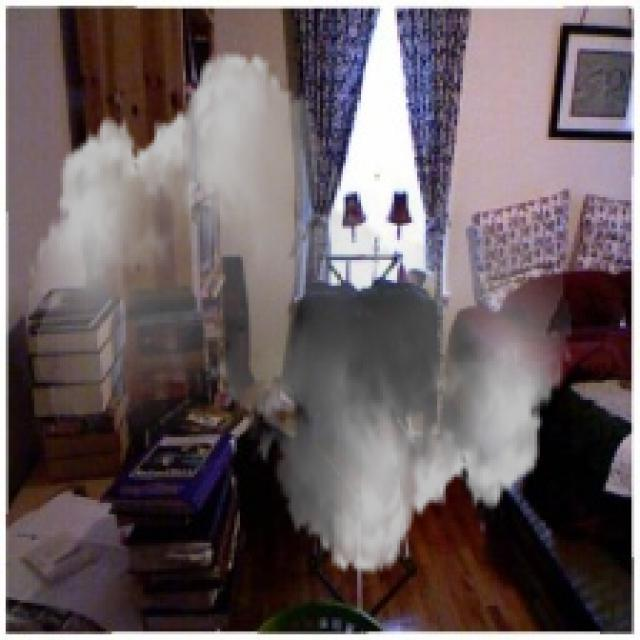Smoke: (29, 34, 572, 592)
